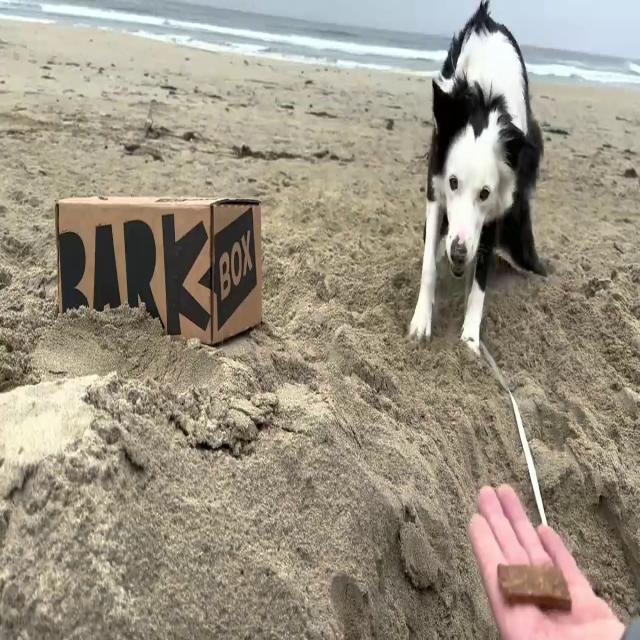Dog: (409, 0, 548, 360)
